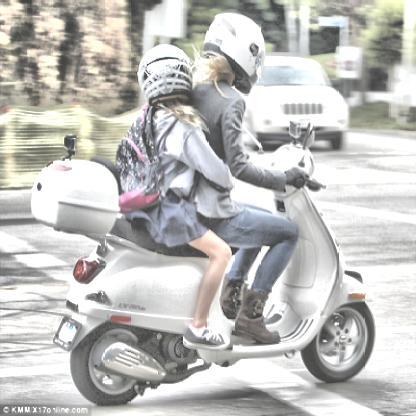wear: (202, 10, 264, 96), (136, 46, 193, 115)
